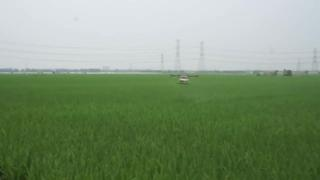UAV: (168, 74, 200, 84)
